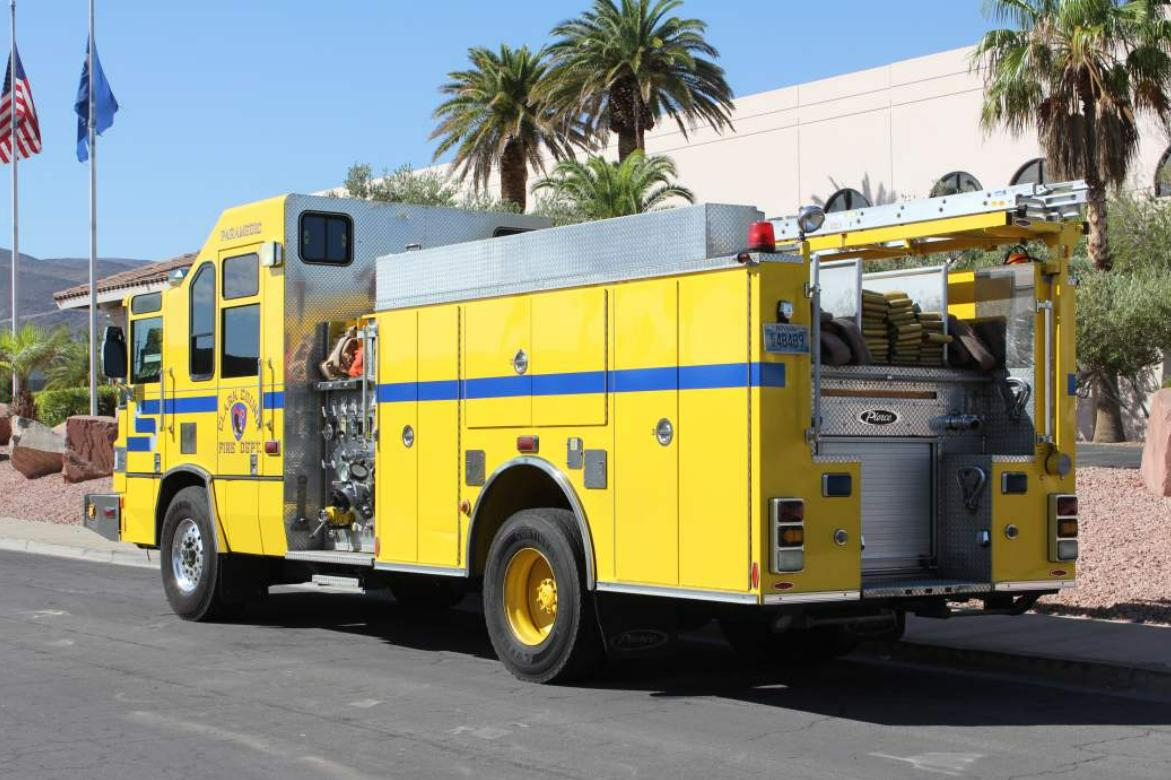firetruck_off: (79, 182, 1107, 690)
